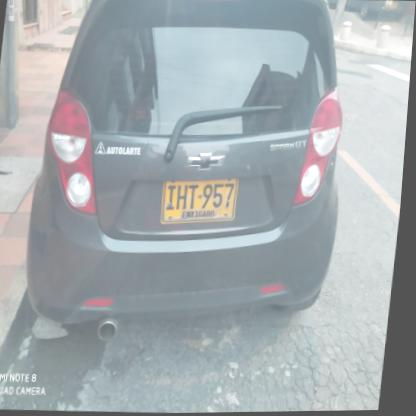placa: (158, 173, 247, 229)
